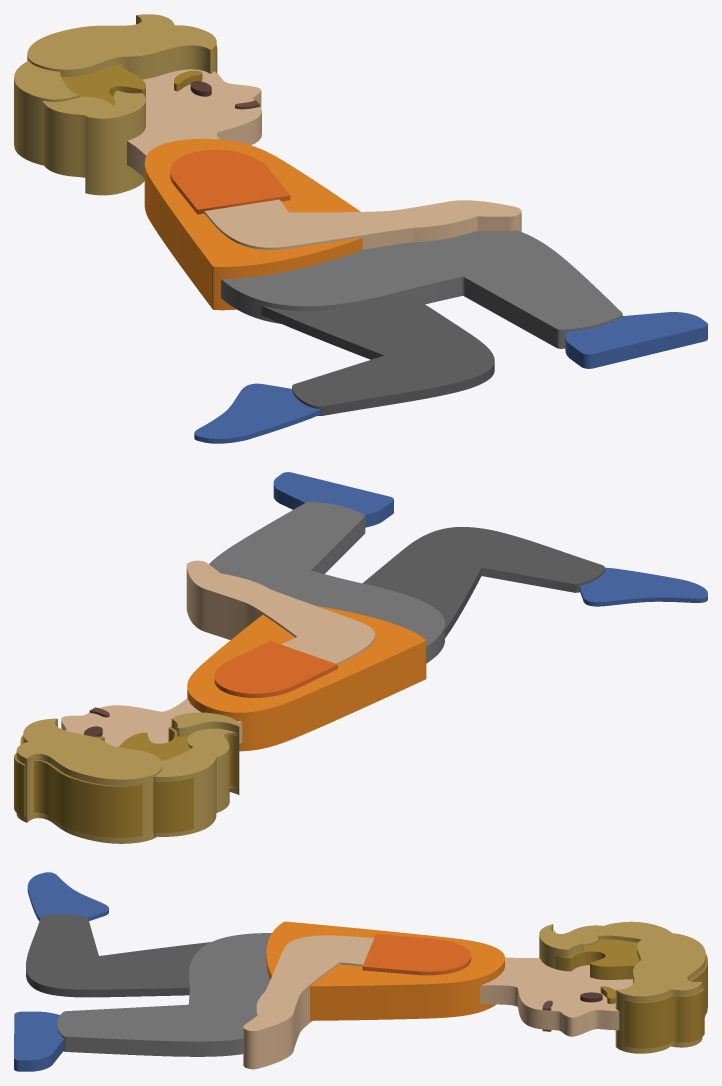
File: emoji_u1f9ce_1f3fc_200d_27a1.glb
The picture shows the model from 3 angles, top to bottom: view 1: azimuth 30°, elevation 25°; view 2: azimuth 150°, elevation 25°; view 3: azimuth 270°, elevation 25°; orthographic projection. The views are drawn at different scales.
Visible parts, largest first — view 1: emoji_u1f9ce_1f3fc_200d_27a1; view 2: emoji_u1f9ce_1f3fc_200d_27a1; view 3: emoji_u1f9ce_1f3fc_200d_27a1.
Part boxes in pixels (x1,y1,x2,y2): emoji_u1f9ce_1f3fc_200d_27a1: [14, 14, 707, 443]; emoji_u1f9ce_1f3fc_200d_27a1: [14, 472, 707, 843]; emoji_u1f9ce_1f3fc_200d_27a1: [14, 872, 707, 1071].
Bounding box in the file's own units: 0.0215 × 0.0032 × 0.0329.
